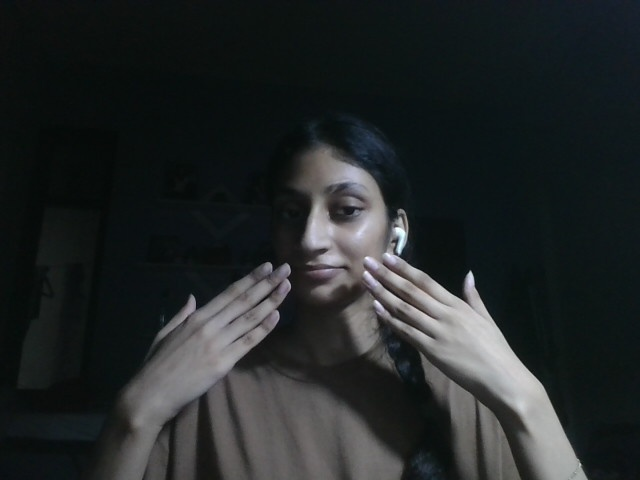thank you: (119, 252, 522, 415)
